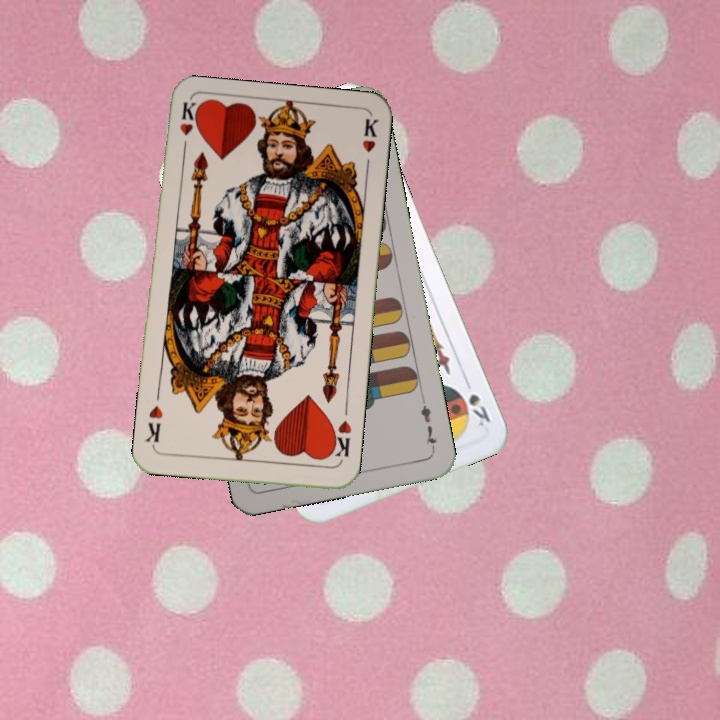E7: (416, 394, 440, 453)
HK: (176, 100, 198, 159), (325, 416, 354, 459)
SK: (460, 374, 493, 430)
